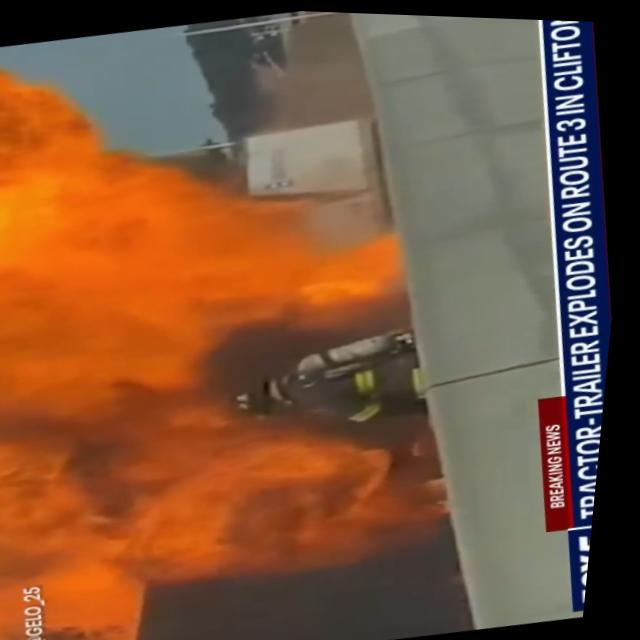Fire: (0, 394, 466, 640), (0, 114, 223, 457), (149, 155, 390, 365)
